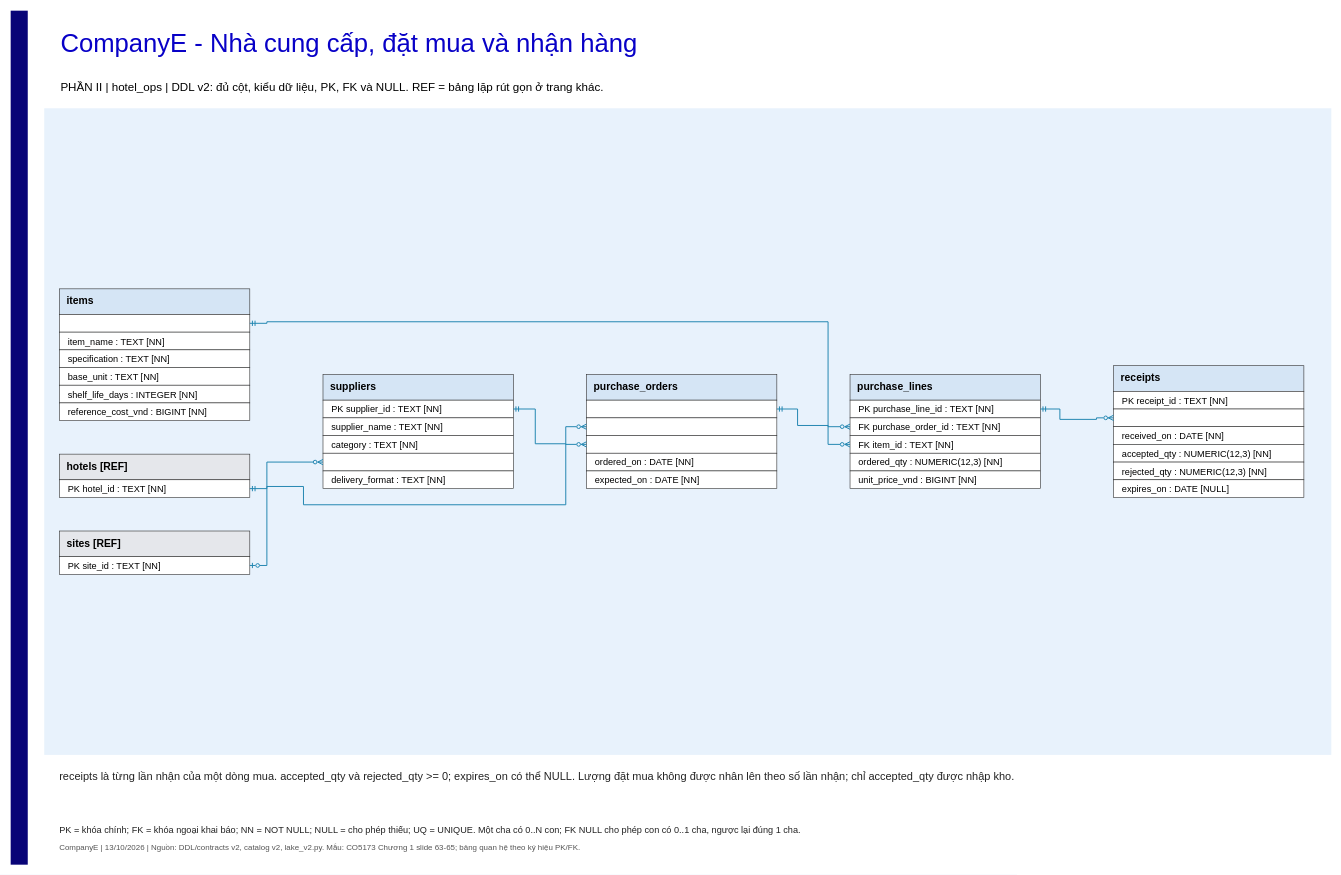
This 1341x875 diagram has some shape labels left out. The box of each missing label's shape, as (x1, y1, x2, y2) in pixels:
FK hotel_id : TEXT [NN]: (586, 417, 777, 436)
FK purchase_line_id : TEXT [NN]: (1113, 408, 1304, 427)
FK site_id : TEXT [NULL]: (322, 453, 513, 471)
FK supplier_id : TEXT [NN]: (586, 435, 777, 453)
PK item_id : TEXT [NN]: (59, 314, 250, 332)
PK purchase_order_id : TEXT [NN]: (586, 400, 777, 418)
